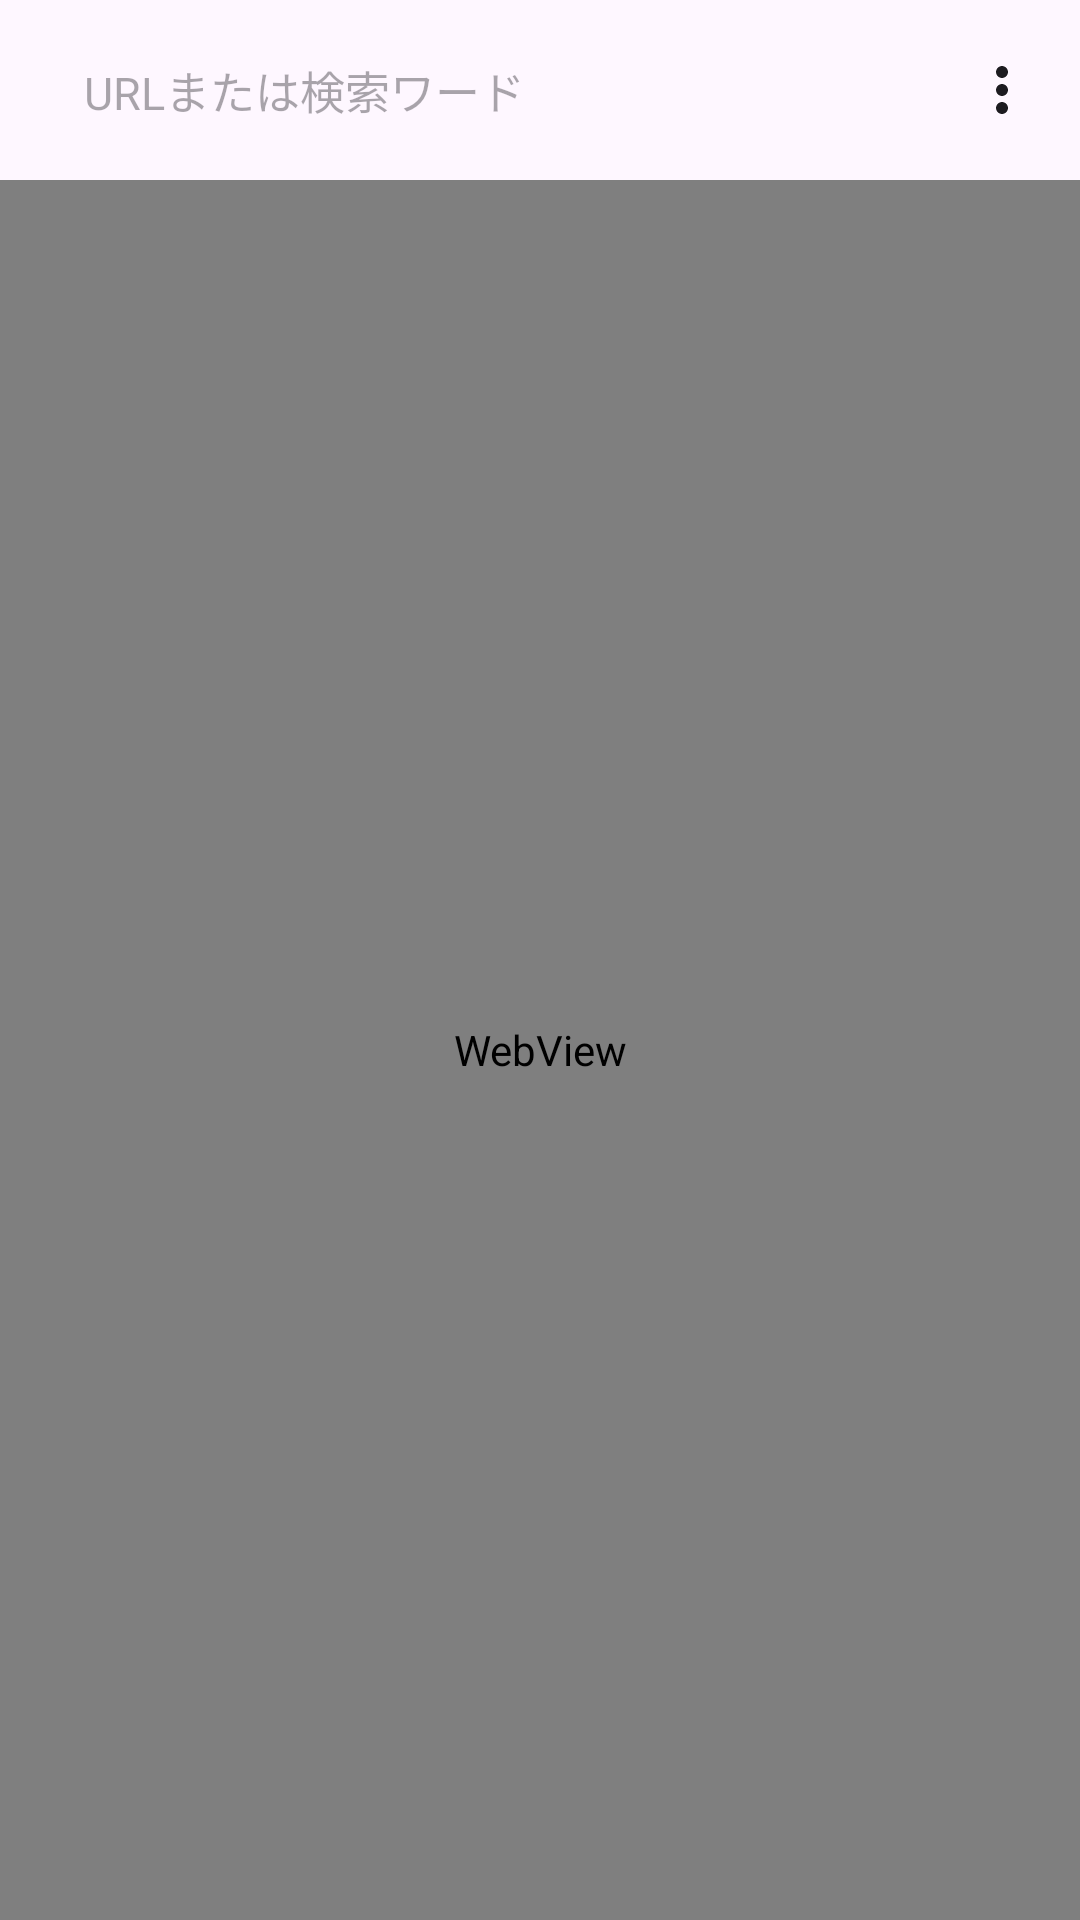

Screen size 1080*1920. Icon name, then its center in pixels as point (x, y):
メニュー: point (1002, 90)
